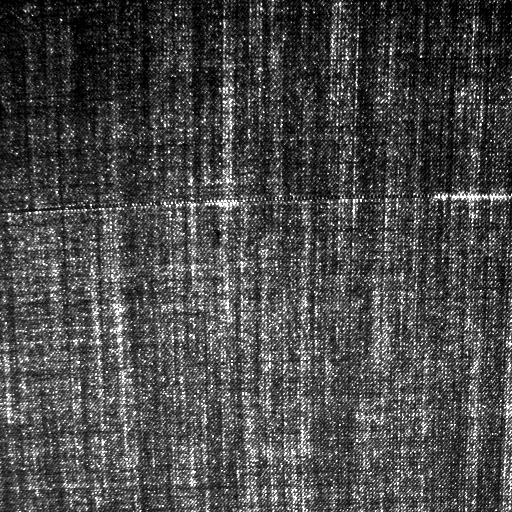fabric_hole: (42, 174, 508, 218)
